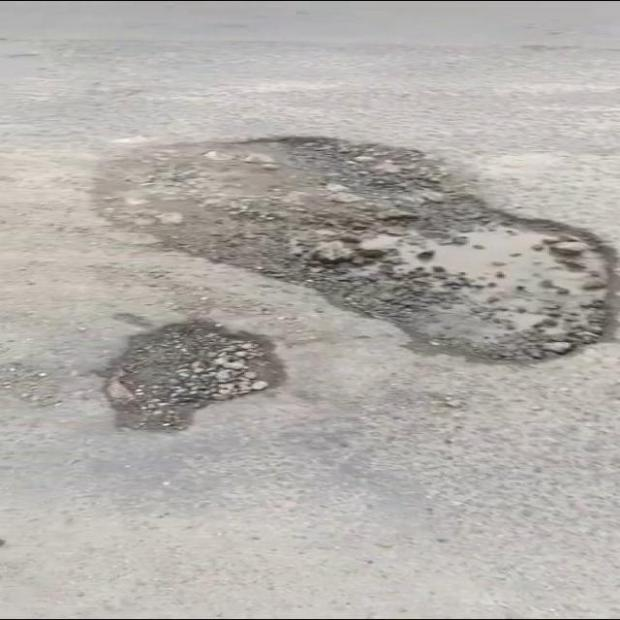lubang: (94, 137, 616, 359), (105, 321, 285, 430)
